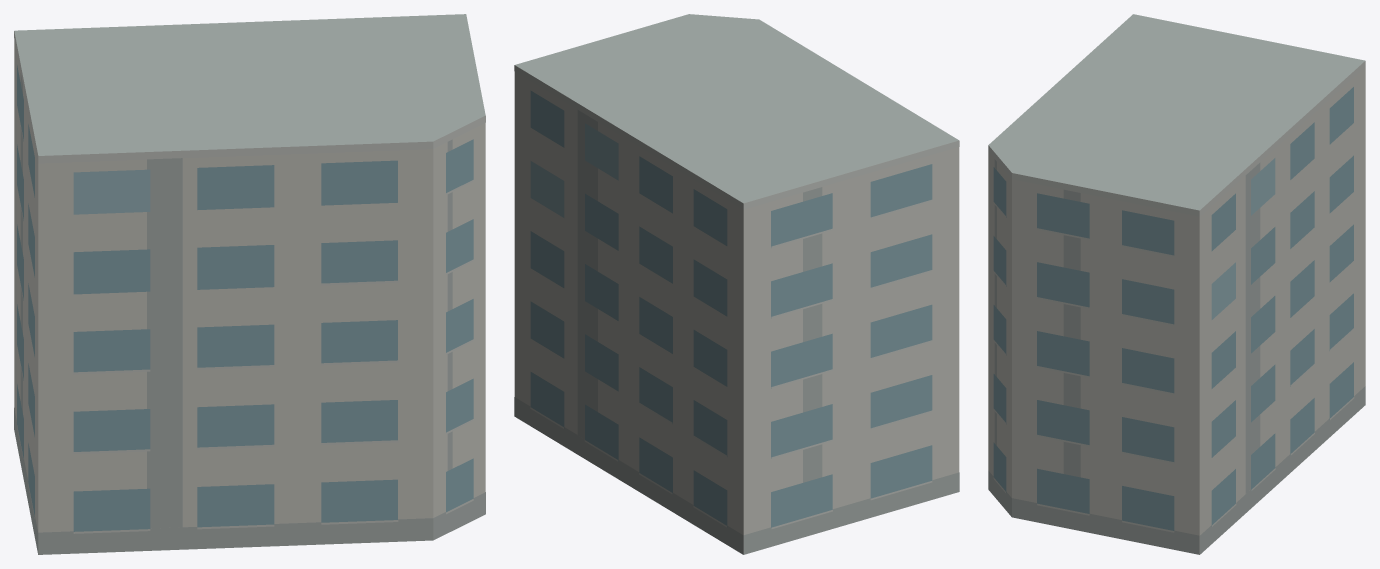
The model's file is survey-upis-32530440.glb.
3 views of the same model, side by side, from view 1: azimuth 30°, elevation 25°; view 2: azimuth 150°, elevation 25°; view 3: azimuth 270°, elevation 25° (orthographic). The views are drawn at different scales.
Visible parts, largest first — view 1: survey-upis-32530440.tmp; view 2: survey-upis-32530440.tmp; view 3: survey-upis-32530440.tmp.
Part boxes in pixels (<box>): survey-upis-32530440.tmp: <box>14,14,485,554</box>; survey-upis-32530440.tmp: <box>514,14,959,554</box>; survey-upis-32530440.tmp: <box>988,14,1365,554</box>.
Bounding box in the file's own units: 16.16 × 13.2 × 13.11.
